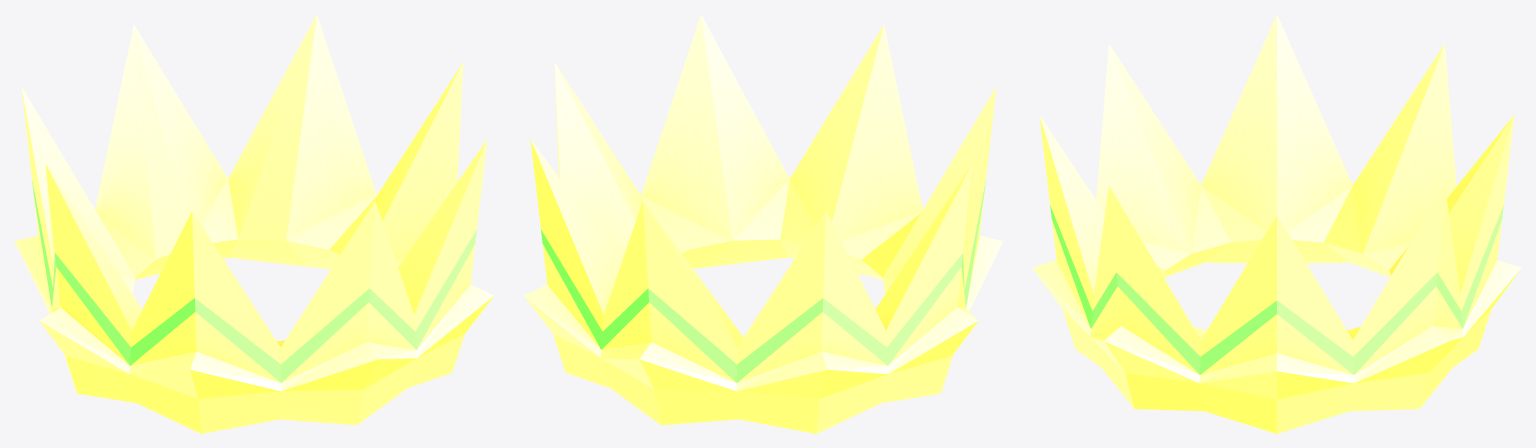
Rendered from crown.glb.
3 renders of one model, left to right at view 1: azimuth 30°, elevation 25°; view 2: azimuth 150°, elevation 25°; view 3: azimuth 270°, elevation 25°, orthographic.
Parts seen in each view (by area): view 1: Crown; view 2: Crown; view 3: Crown.
Boxes of the visible parts, x1,y1,x2,y2 form: Crown: [14, 14, 494, 433]; Crown: [523, 14, 1003, 433]; Crown: [1032, 14, 1521, 433].
Size of the model in its own units: 2.28 by 1.2 by 2.28.
Materials: 2 (1 with a texture image).
